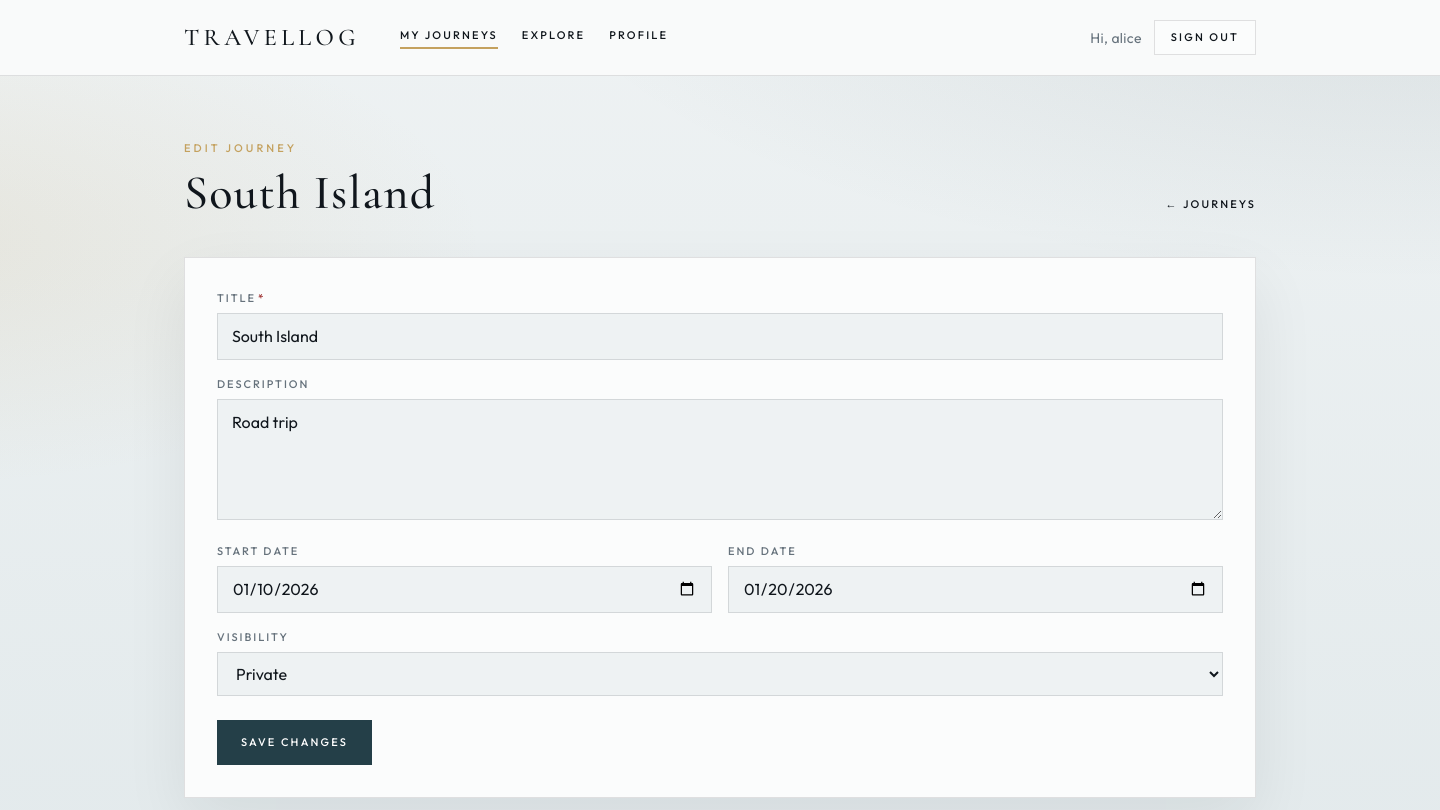
Test: JourneyEditPage › loads and saves journey edits then returns to the list
Replace the text in the field labelled "Title*" with "Fiordland" at (720, 336), box [217,313,1223,360]
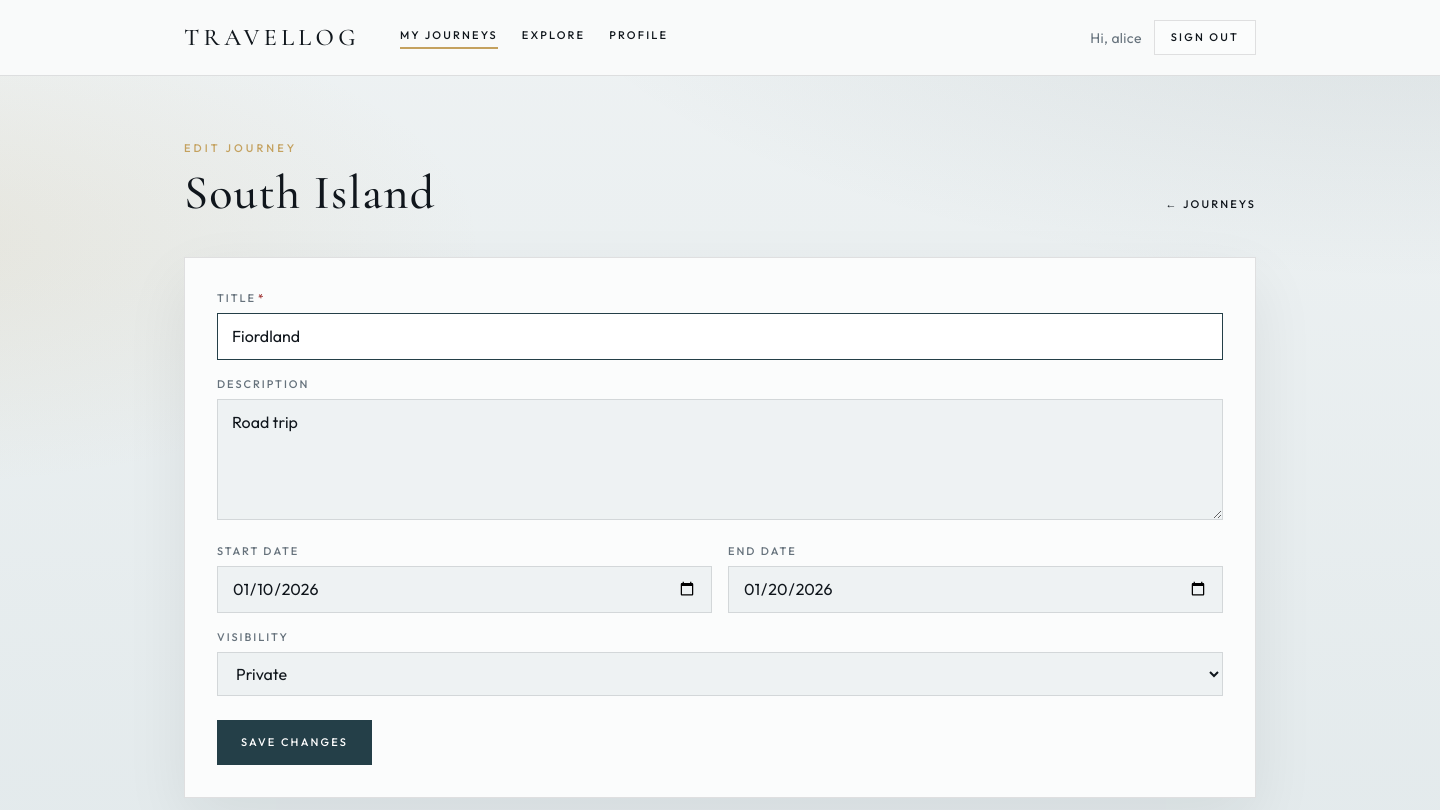
Replace the text in the text box labelled "Description" with "Updated notes" at (720, 460), box [217,399,1223,520]
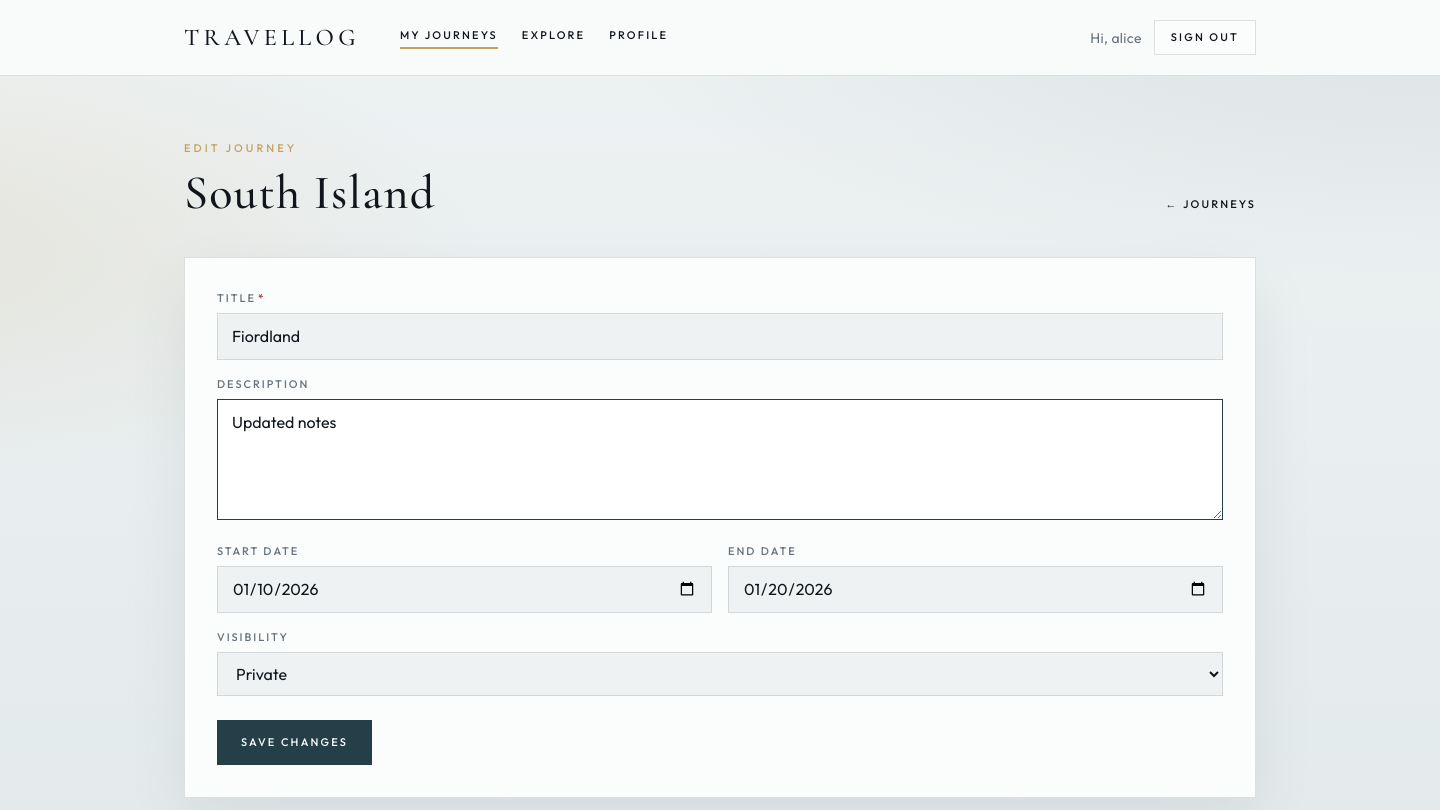
Click the button "Save changes" at (295, 742), box [217,720,372,765]
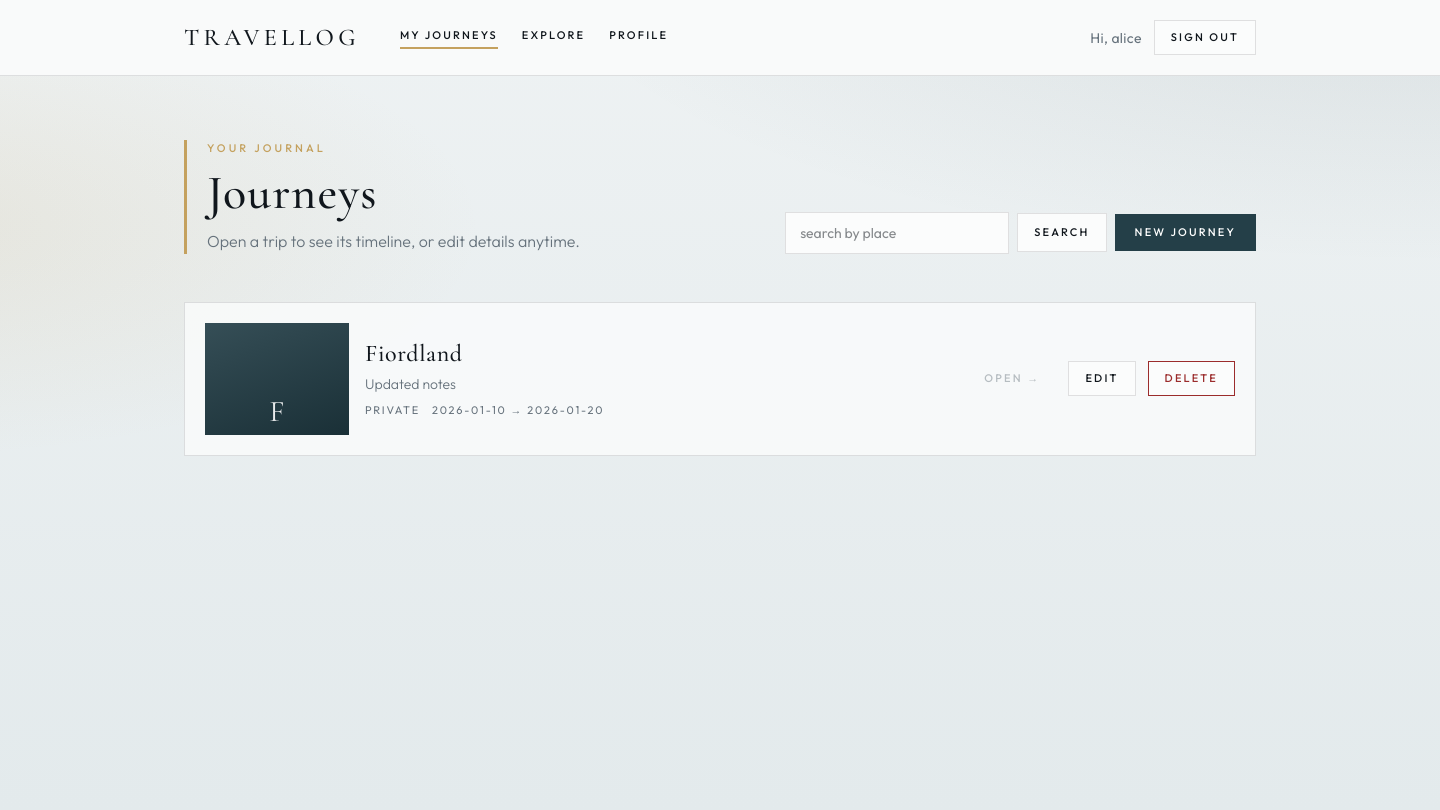
Expected: the heading "Journeys" is shown, [207,164,378,222]
